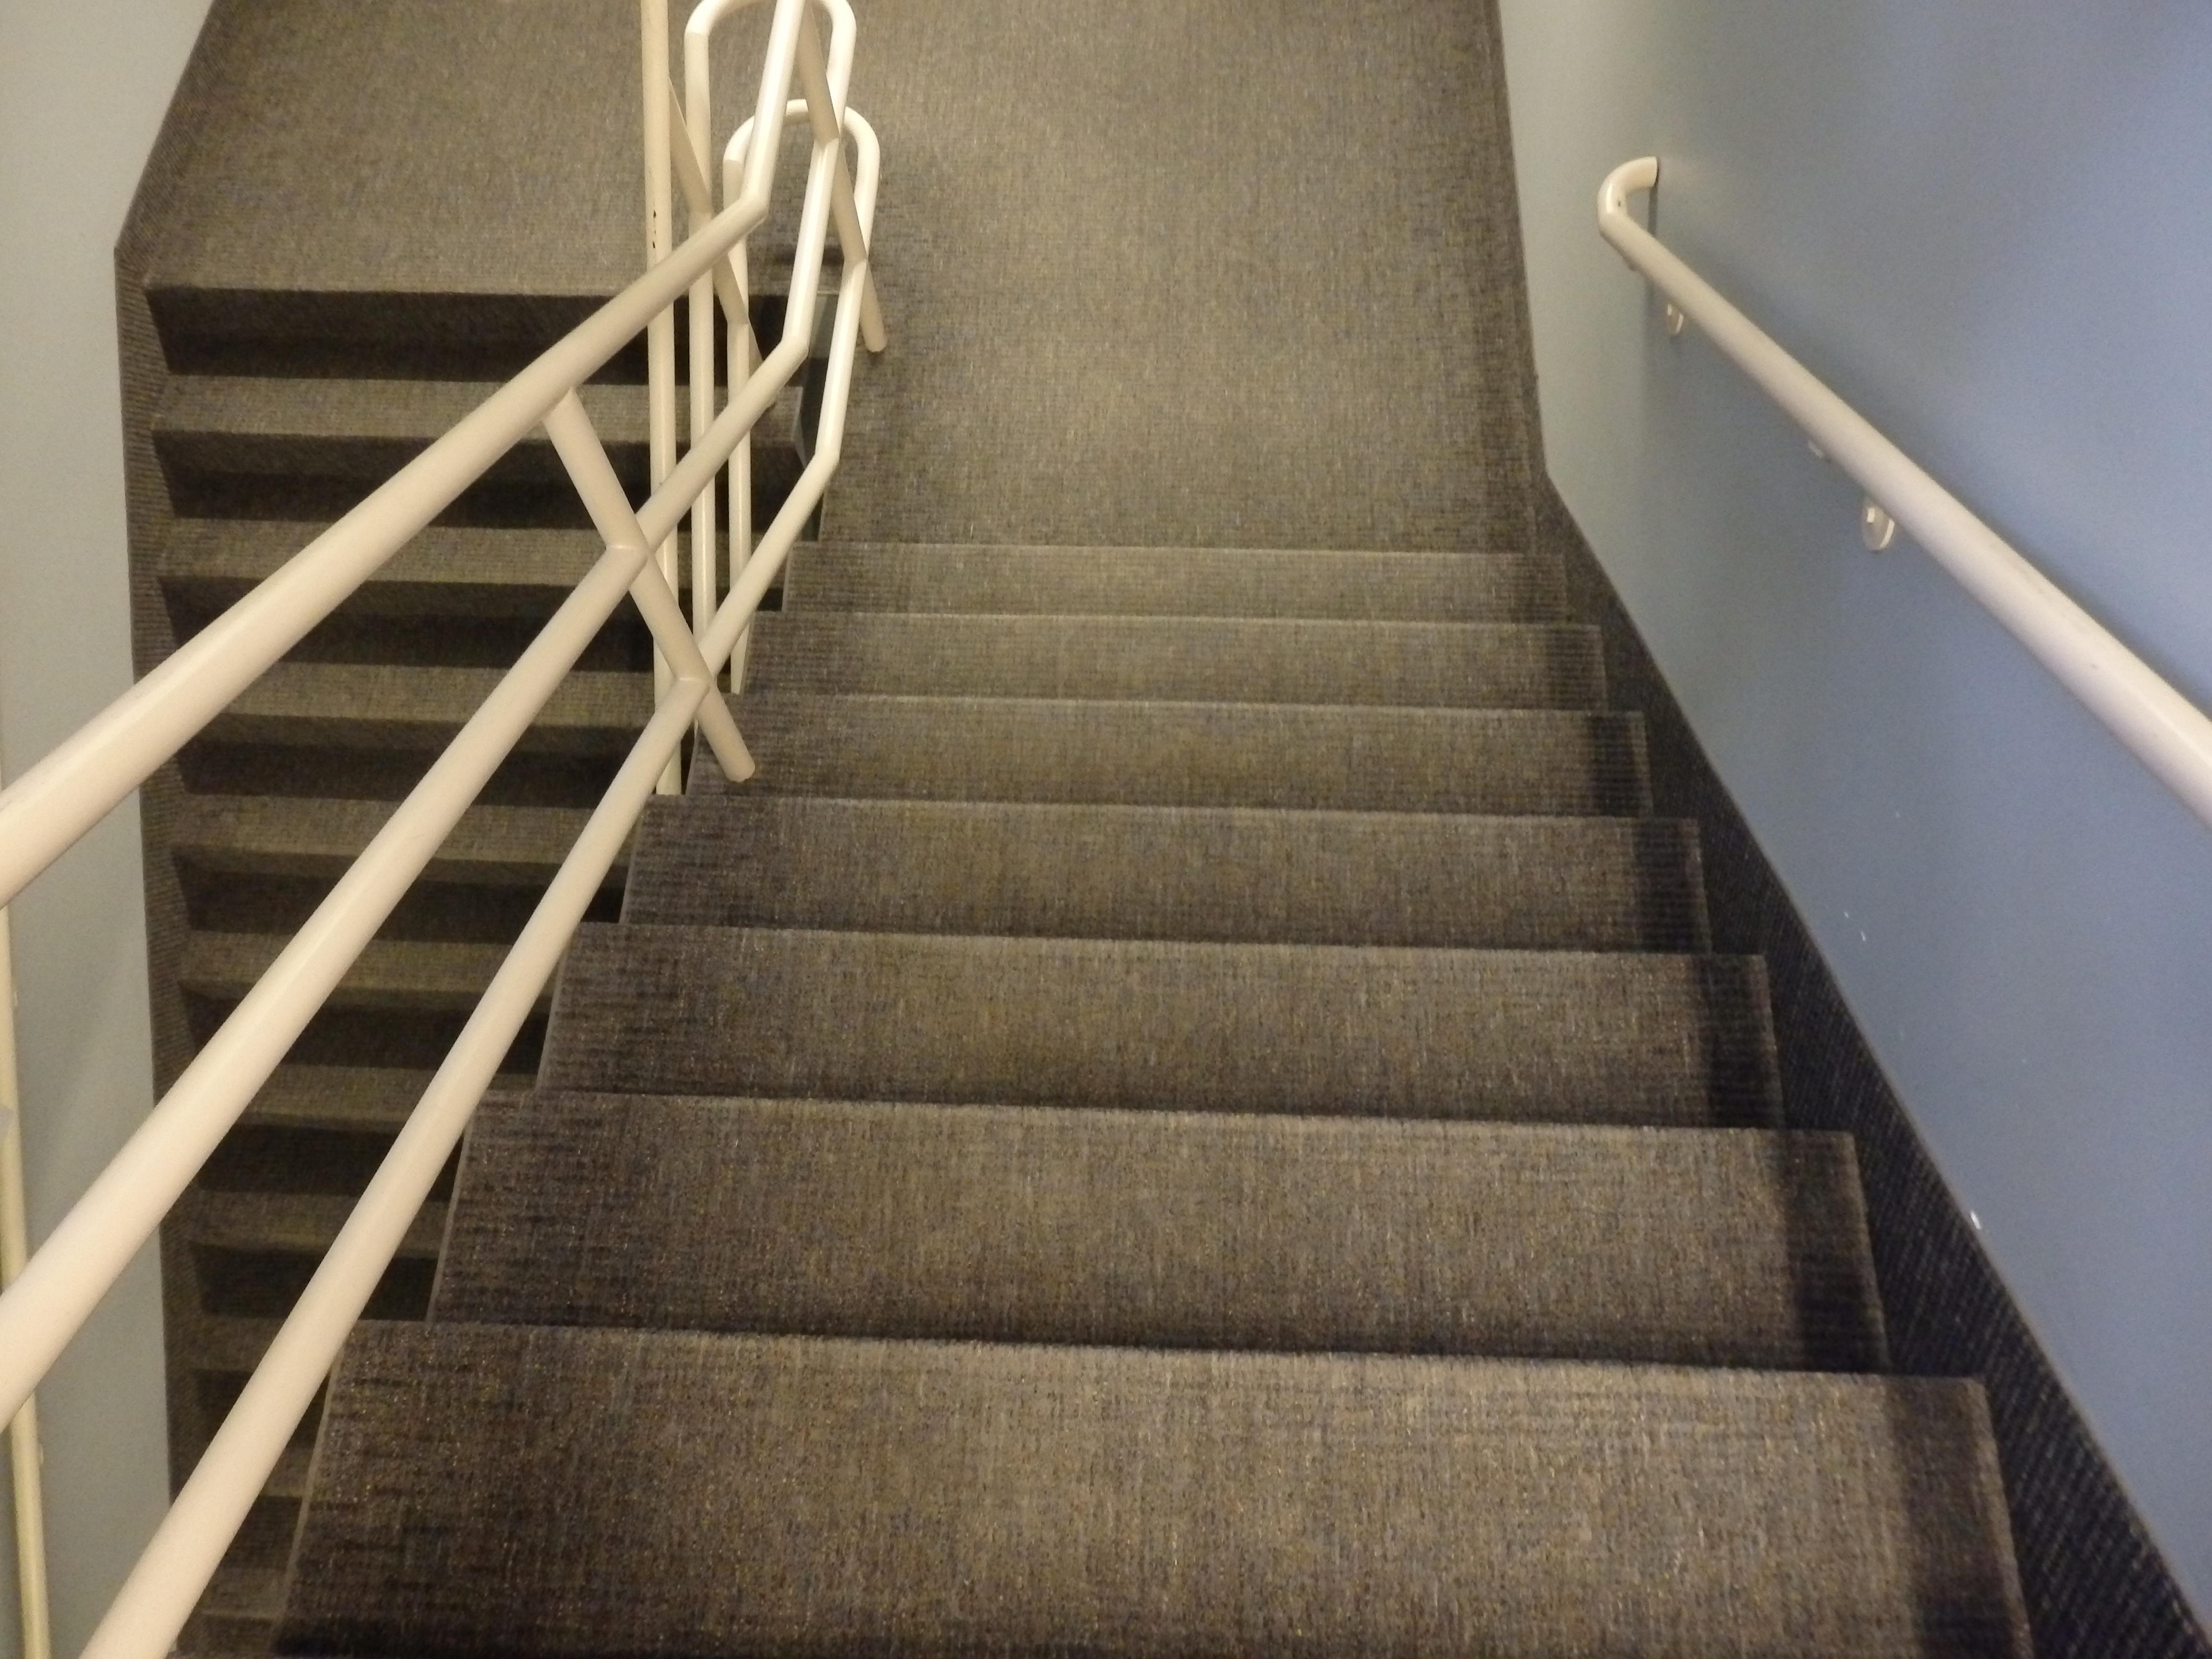stairs_down: (651, 525, 1655, 1640)
